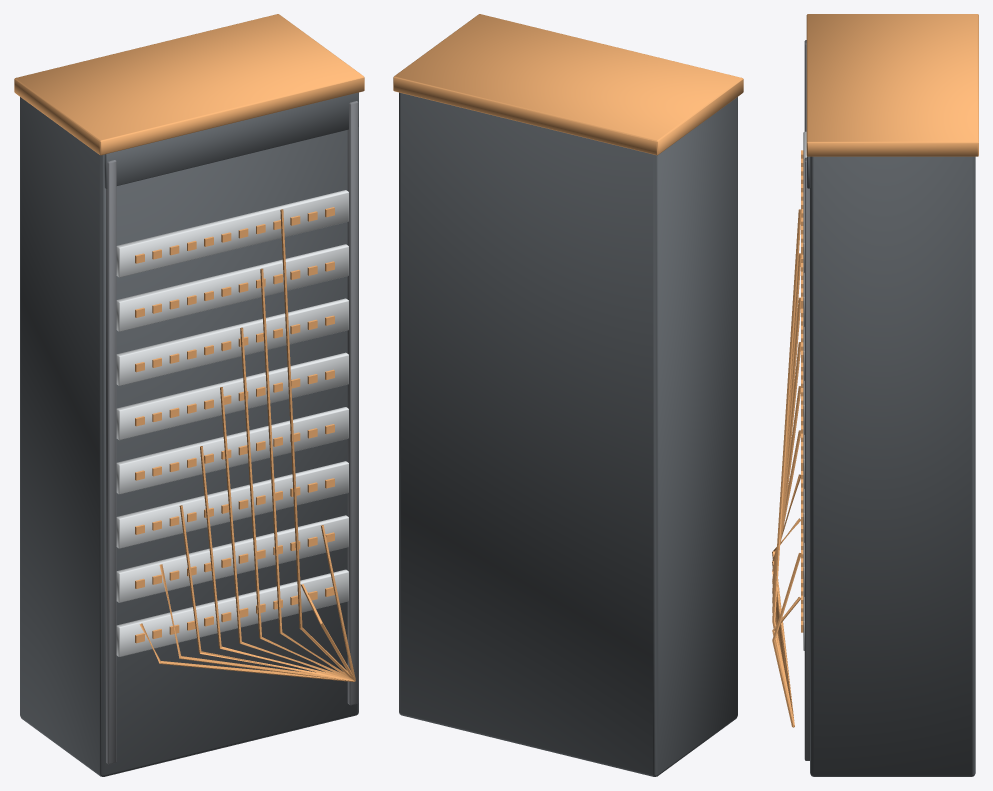
File: odf.glb
The picture shows the model from 3 angles, left to right: view 1: azimuth 30°, elevation 25°; view 2: azimuth 150°, elevation 25°; view 3: azimuth 270°, elevation 25°; orthographic projection.
Visible parts, largest first — view 1: Body; view 2: Body; view 3: Body.
Boxes of the visible parts, x1,y1,x2,y2 form: Body: [14, 14, 364, 776]; Body: [393, 14, 743, 776]; Body: [772, 14, 978, 776].
Size of the model in its own units: 0.92 by 2.12 by 0.6249.
